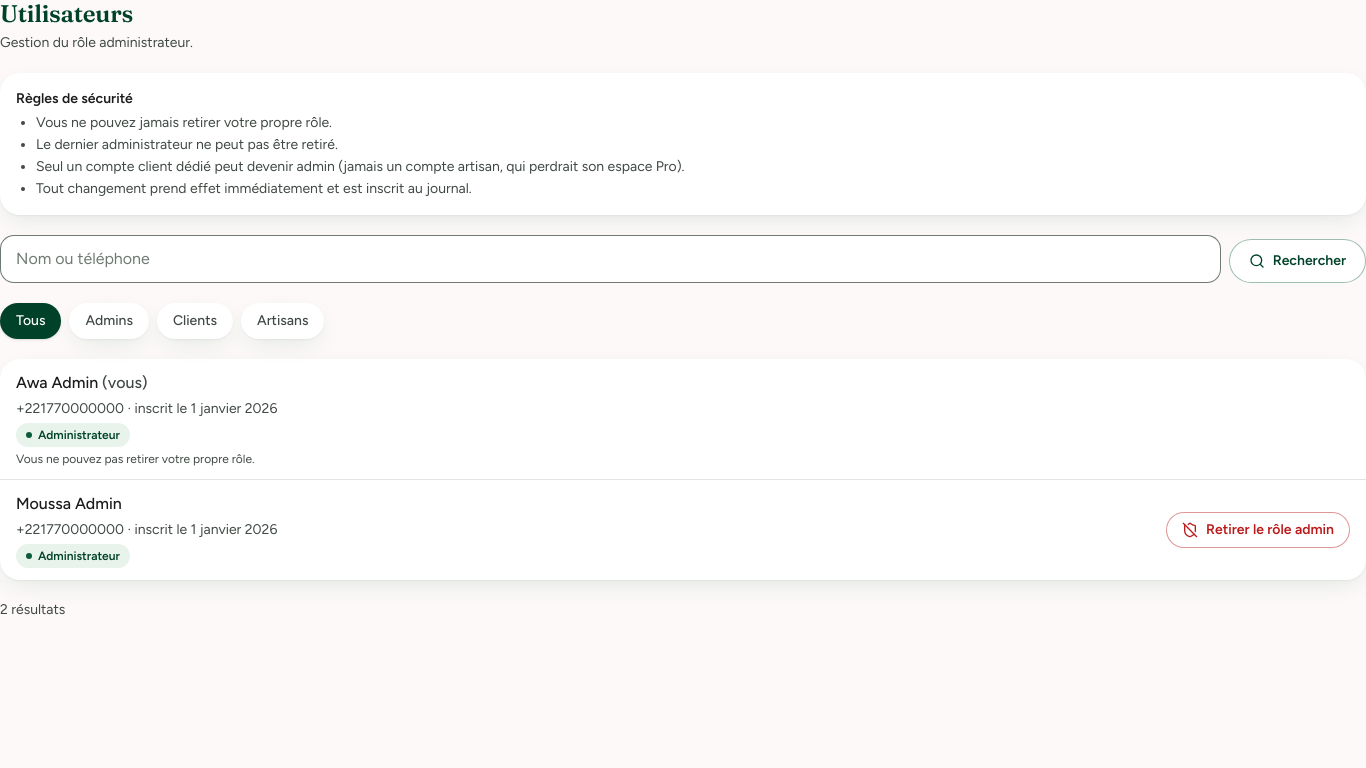
Test: AdminUsersScreen › montre en clair le refus du serveur (dernier admin), sans rien changer
Expected: the text "Moussa Admin" is shown, [16,494,122,513]
Click the button "Retirer le rôle admin" at (1258, 530), box [1166,512,1350,548]
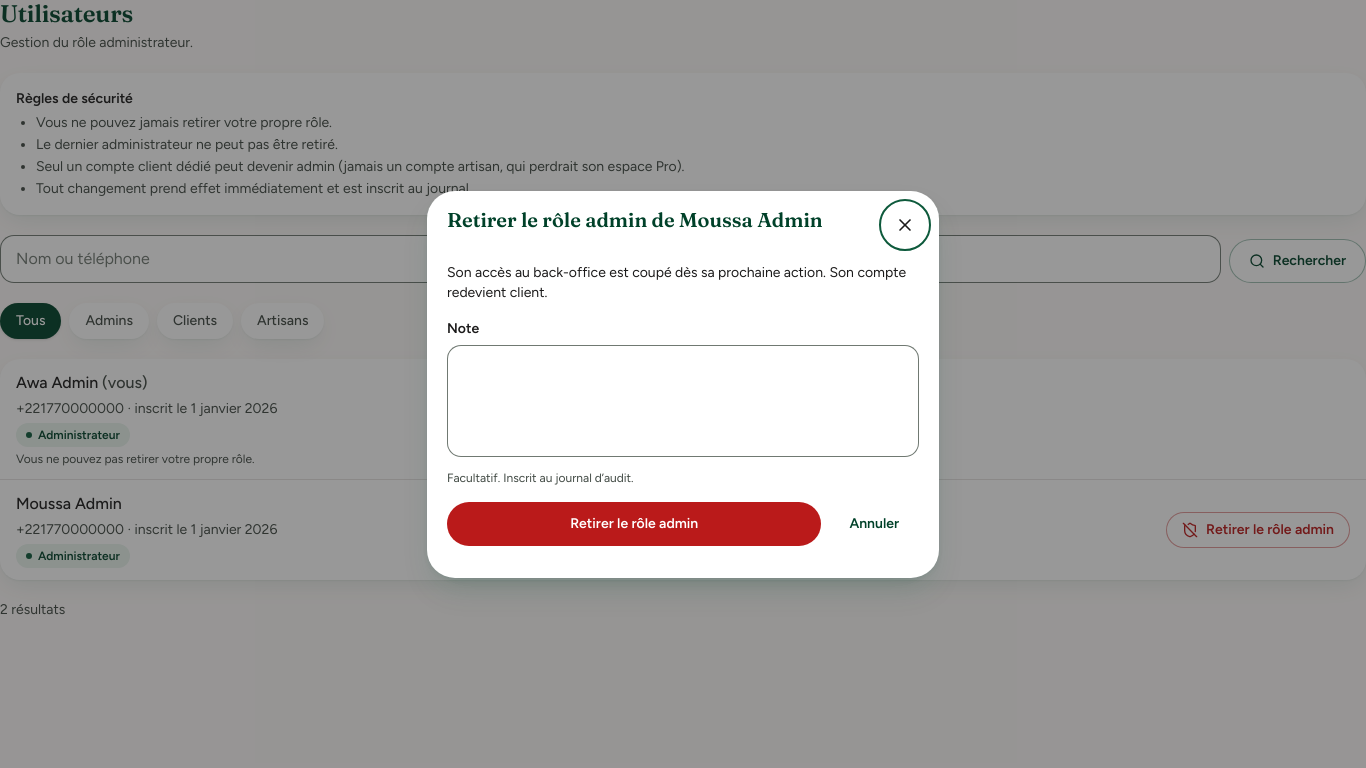
Click the button "Retirer le rôle admin" at (634, 524), box [447,502,821,546]
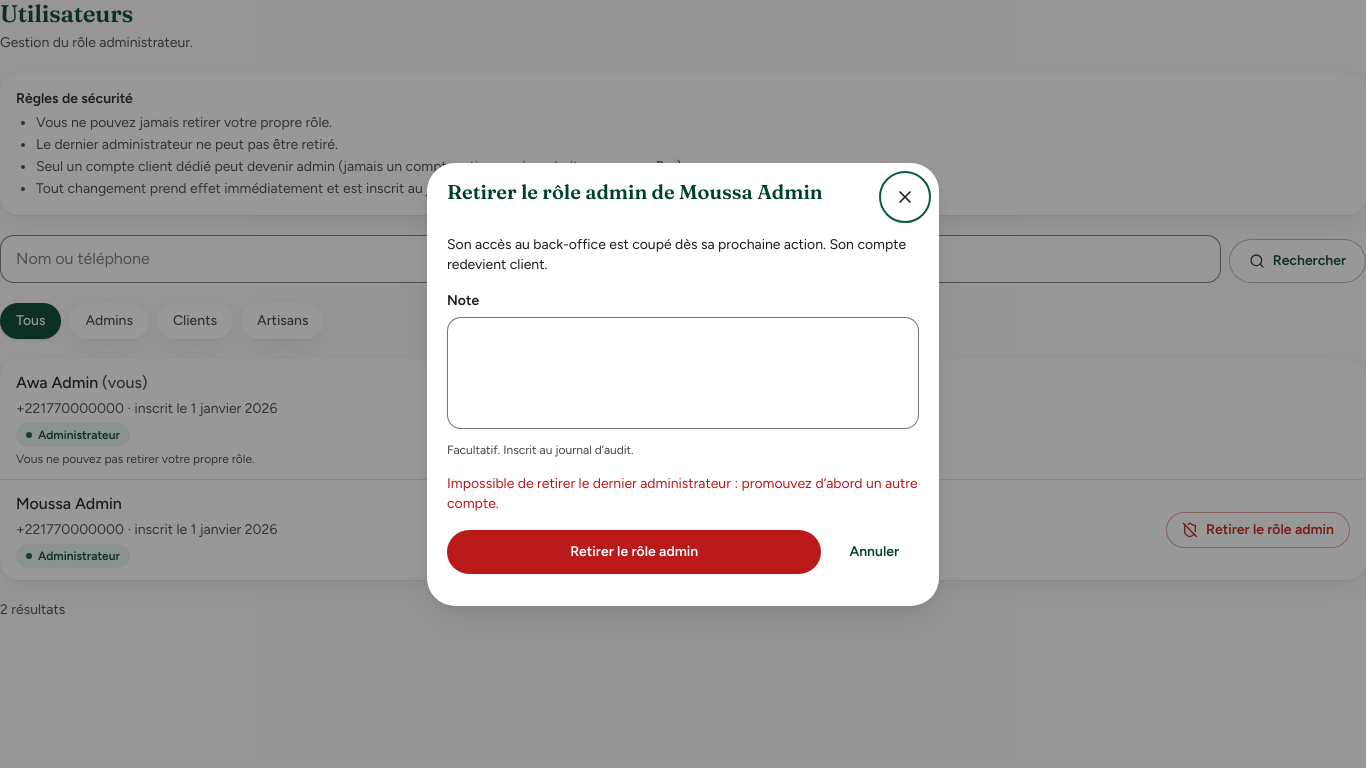
Expected: the message shows "Impossible de retirer le dernier administrateur", [447,474,918,512]
